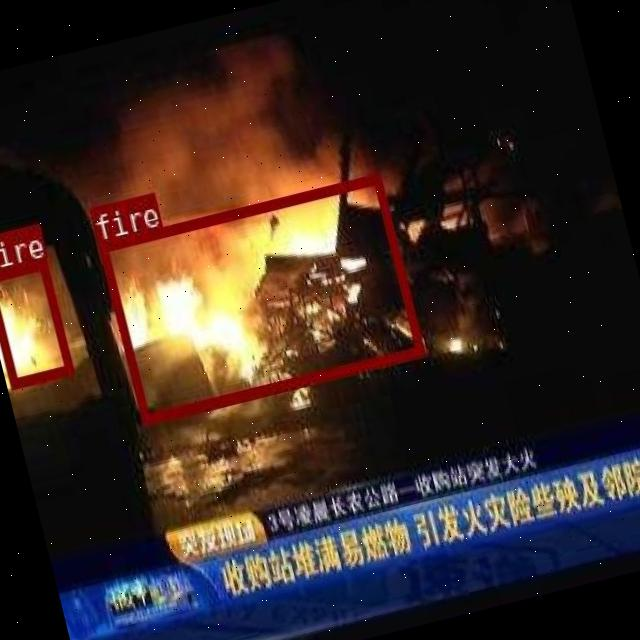fire: (96, 170, 424, 422), (0, 258, 72, 388)
